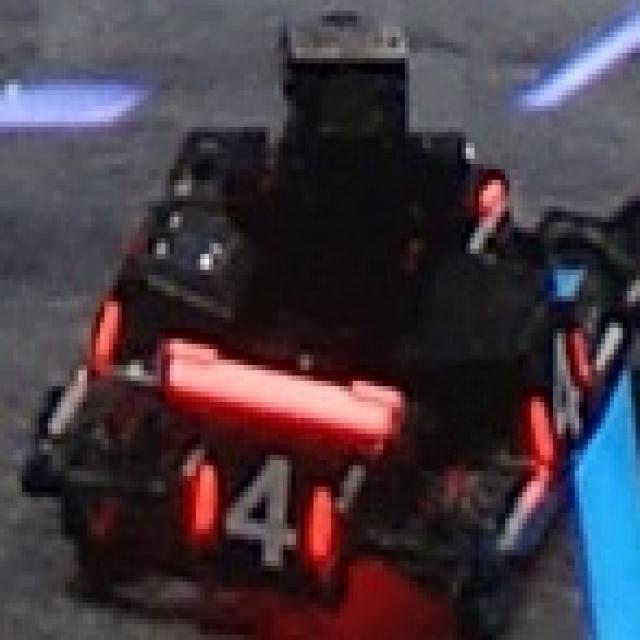R4: (191, 450, 331, 571), (527, 322, 592, 466)
